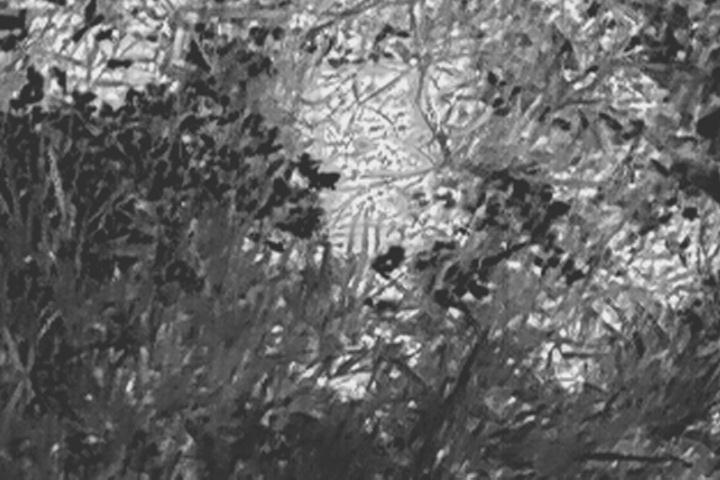landmine: (261, 42, 469, 248)
